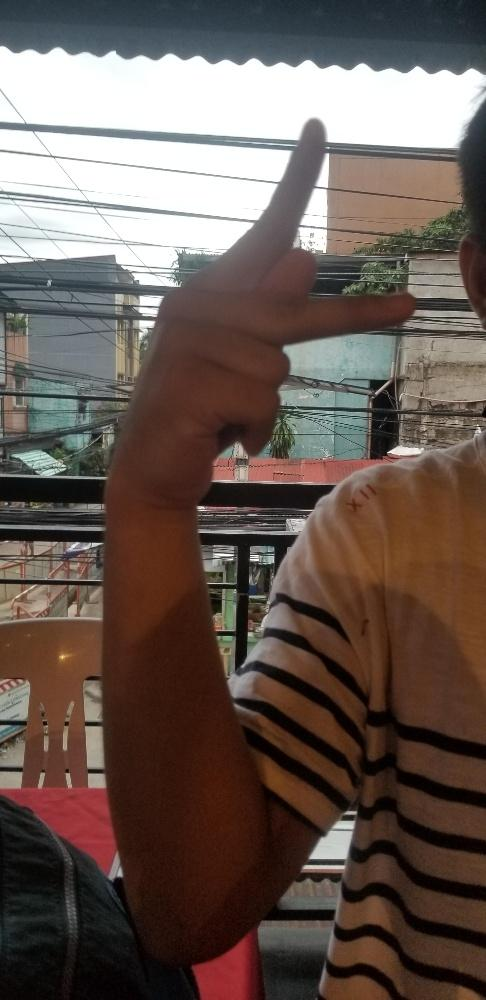k: (103, 116, 415, 504)
